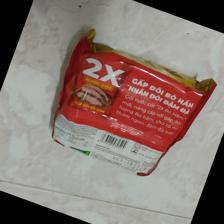3mien: (50, 27, 218, 180)
